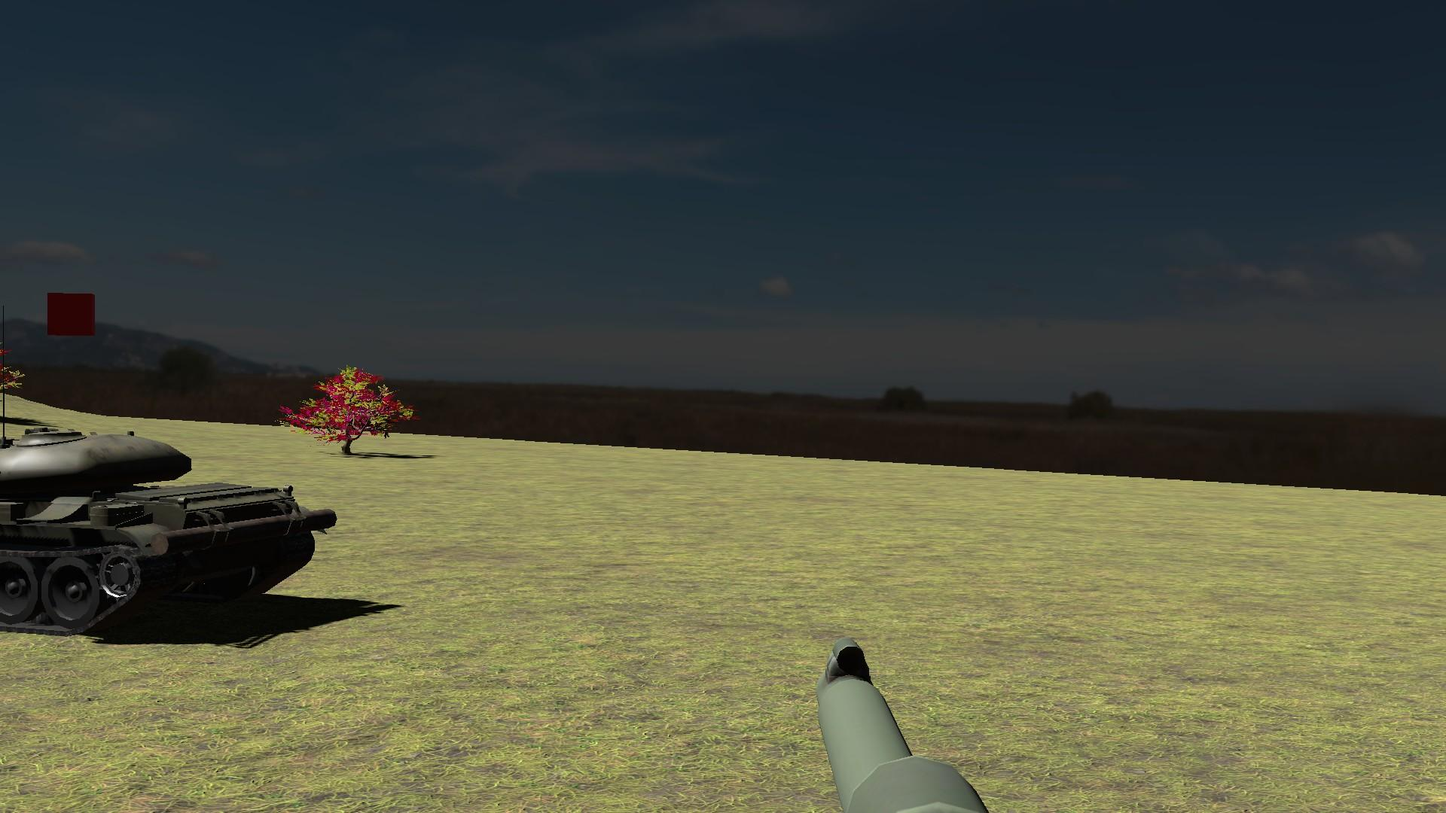Tank: (1, 422, 341, 639)
